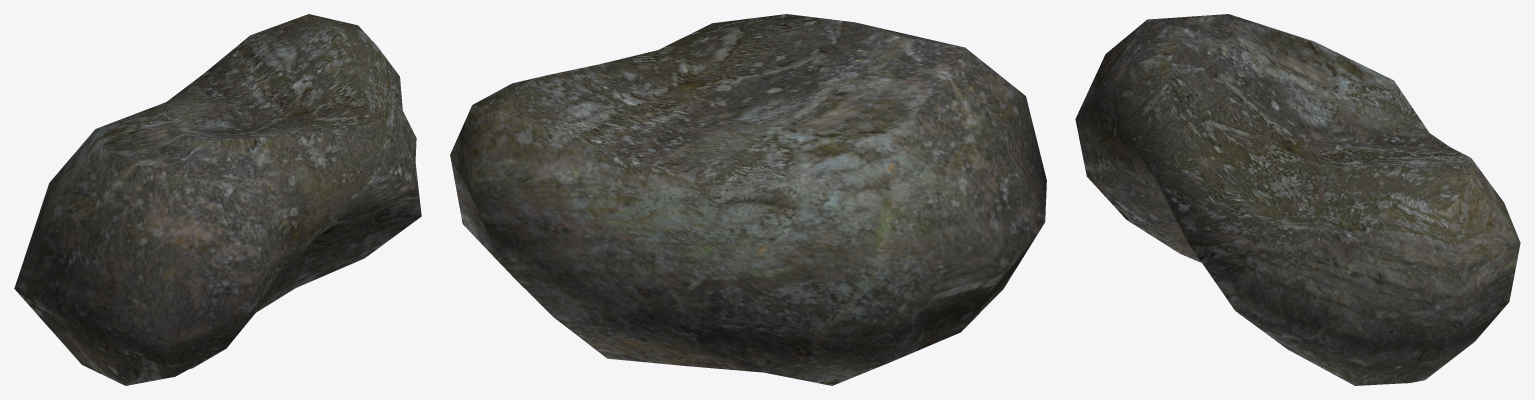
The model's file is roca04_LP.fbx.
The picture shows the model from 3 angles, left to right: view 1: azimuth 30°, elevation 25°; view 2: azimuth 150°, elevation 25°; view 3: azimuth 270°, elevation 25°; orthographic projection. The views are drawn at different scales.
Parts seen in each view (by area): view 1: roca04_LP; view 2: roca04_LP; view 3: roca04_LP.
Part boxes in pixels (<box>): roca04_LP: <box>14,14,421,385</box>; roca04_LP: <box>450,14,1046,385</box>; roca04_LP: <box>1075,14,1520,385</box>.
Size of the model in its own units: 157 by 92.8 by 132.
Materials: 1 (1 with a texture image).
